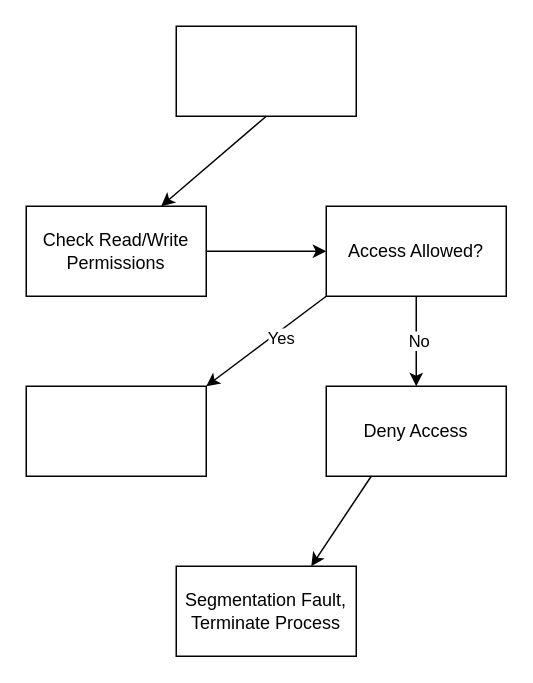
Some shapes in this 533 by 683 pixel diagram are drawn without their labels. Each missing label, with the centre of its shape:
"Invalid Memory Access" goes at [265,70].
"Proceed" goes at [115,430].
